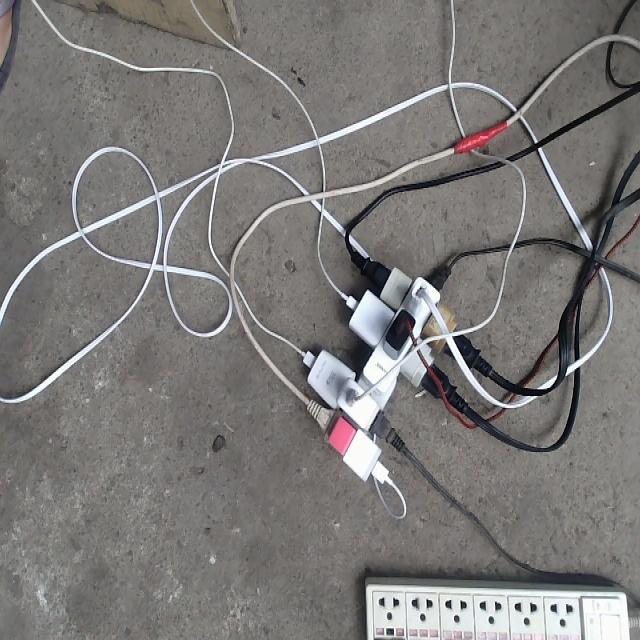-: (300, 248, 490, 485)
